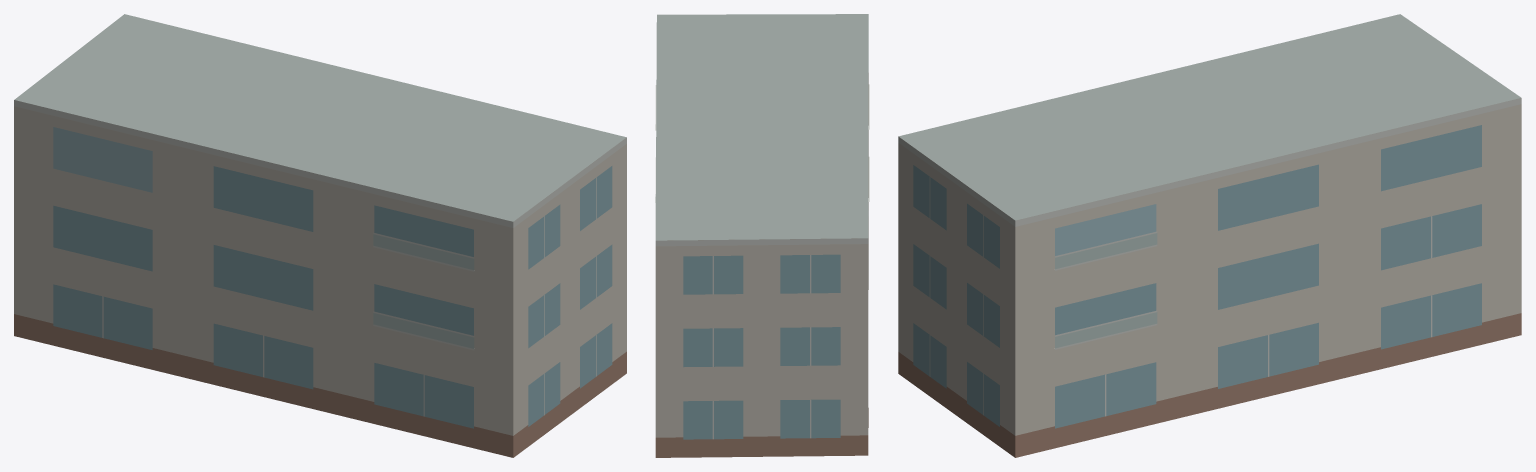
Rendered from survey-upis-32924156.glb.
The picture shows the model from 3 angles, left to right: view 1: azimuth 30°, elevation 25°; view 2: azimuth 150°, elevation 25°; view 3: azimuth 270°, elevation 25°; orthographic projection. The views are drawn at different scales.
Parts seen in each view (by area): view 1: survey-upis-32924156.tmp; view 2: survey-upis-32924156.tmp; view 3: survey-upis-32924156.tmp.
Part boxes in pixels (box(x1,y1,x2,y2)): survey-upis-32924156.tmp: box(14, 14, 626, 457); survey-upis-32924156.tmp: box(655, 14, 869, 457); survey-upis-32924156.tmp: box(898, 14, 1521, 457).
Size of the model in its own units: 17.09 by 9.15 by 21.79.
